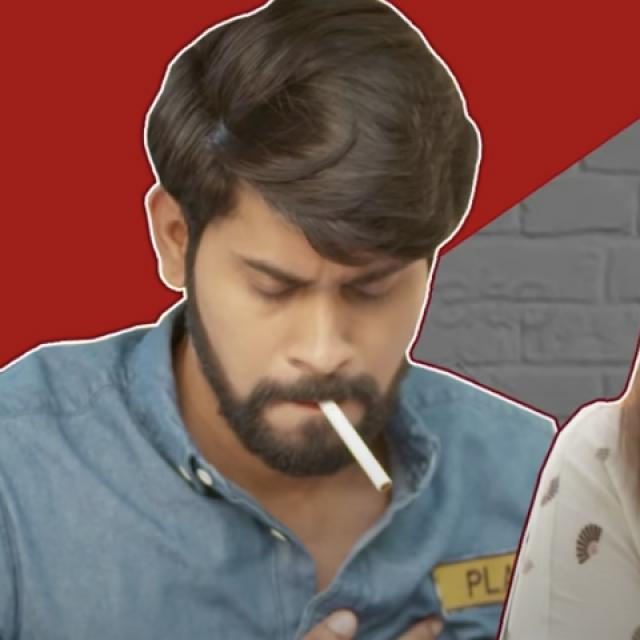smoke: (321, 396, 399, 499)
